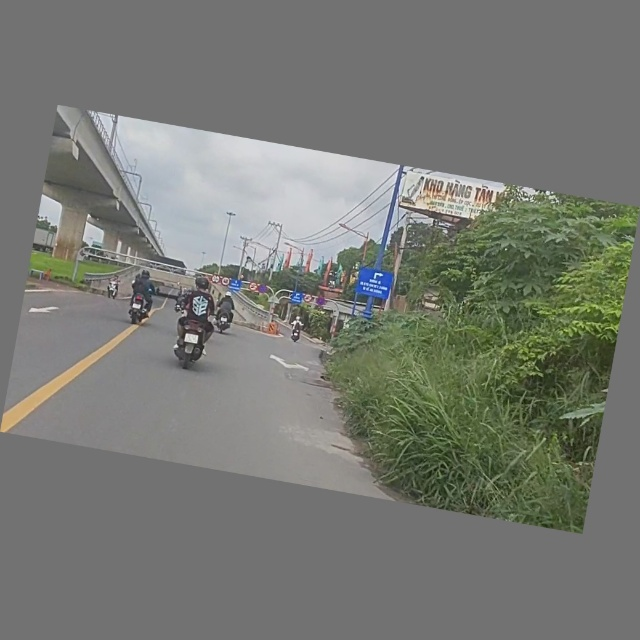P.107: (247, 282, 259, 293), (302, 293, 313, 304)
P.117*: (210, 274, 221, 285)
P.127*40: (220, 276, 231, 288)
P.130: (257, 284, 269, 295), (316, 296, 327, 308)
